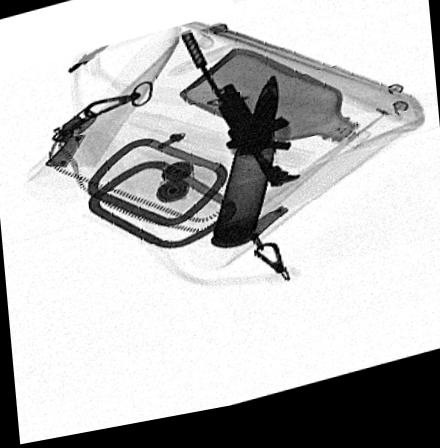Bullet: (209, 85, 279, 257)
Gun: (178, 35, 301, 199)
